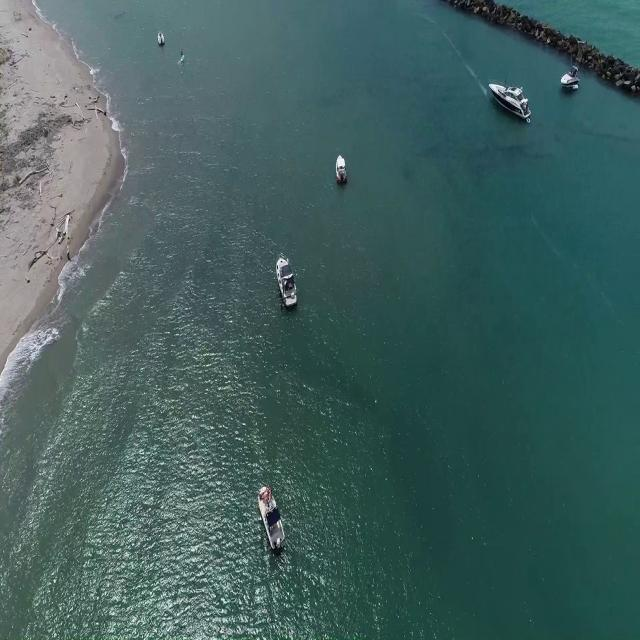boat: (489, 82, 534, 127), (259, 484, 284, 548), (276, 251, 299, 309), (559, 66, 584, 93), (336, 150, 351, 186), (156, 29, 165, 46)
person: (180, 43, 186, 55)
surfboard: (180, 53, 187, 66)
wood: (31, 215, 72, 261)
